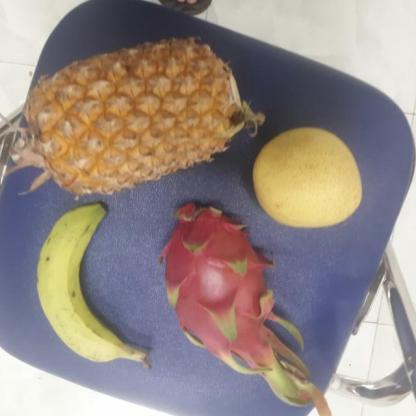banana: (34, 205, 138, 362)
pear: (248, 127, 362, 226)
pineapple: (20, 37, 239, 195)
pitaya: (152, 204, 293, 358)
